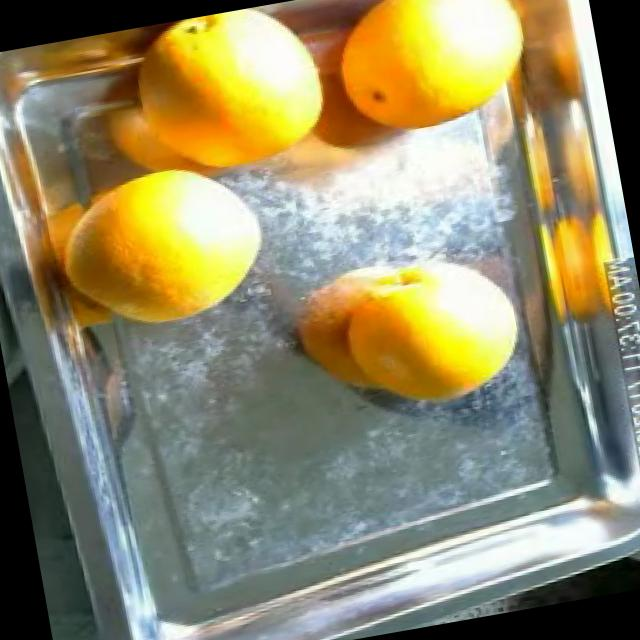Fruit: (315, 227, 548, 436), (233, 0, 407, 59)
